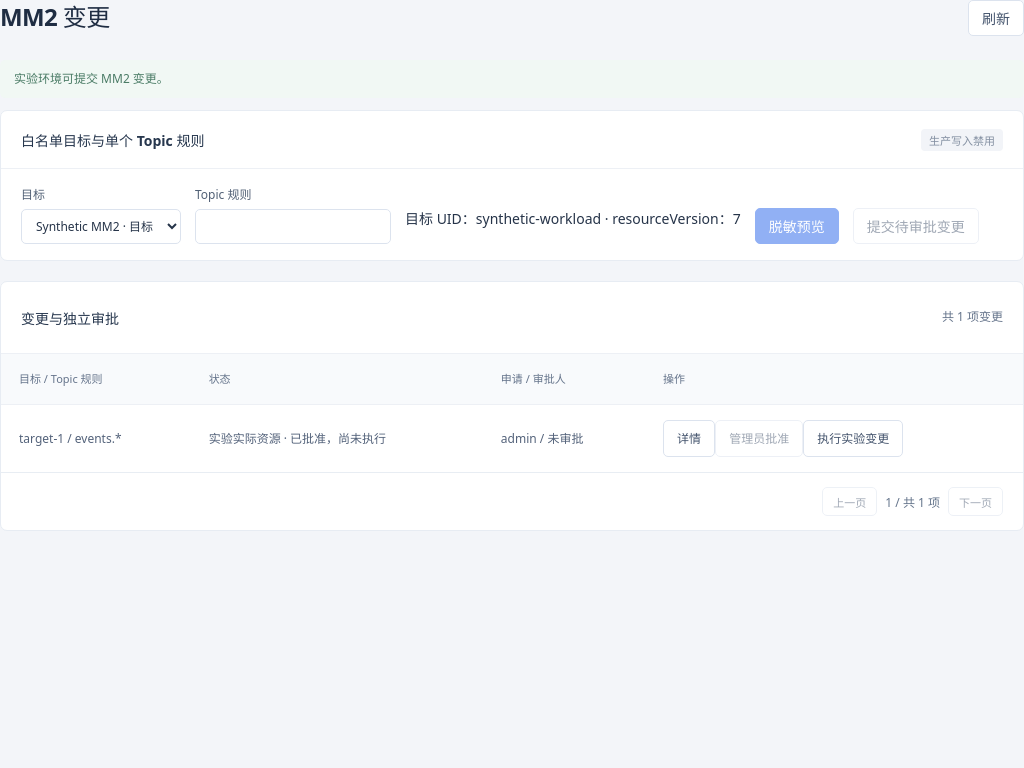
Test: opens real lab changes and trusts explicit server execution permission
Check: the form is shown, box [21,185,1003,244]
Click the button "执行实验变更" at coordinates (853, 438), box [803,420,903,457]
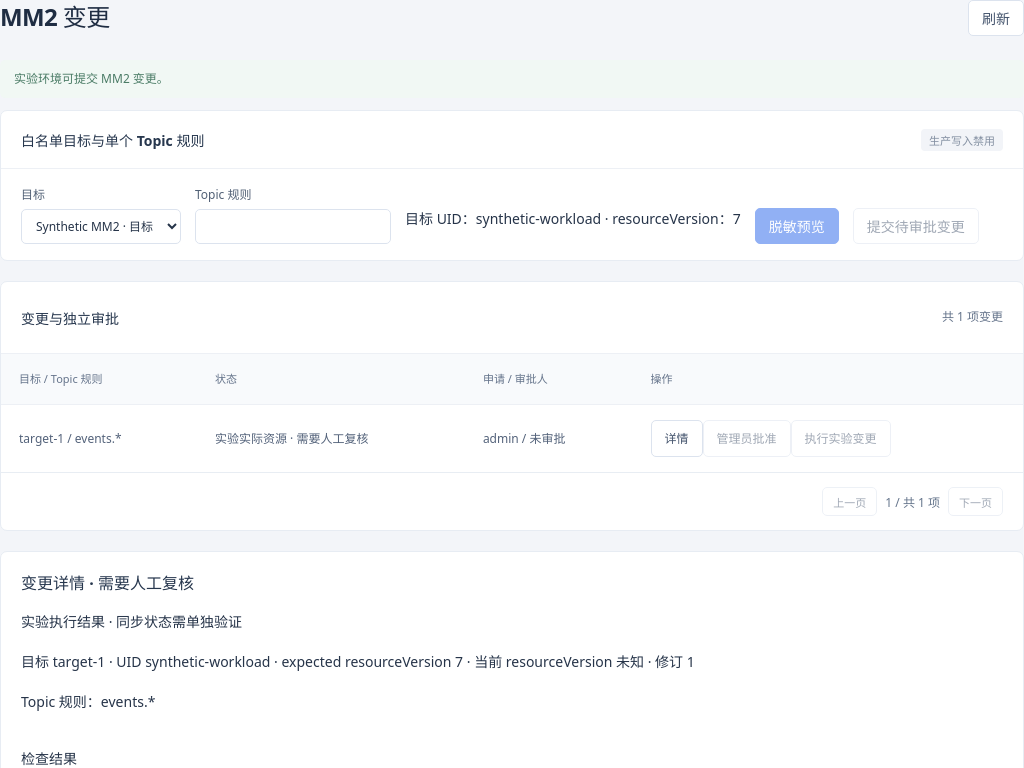
Check: the element that starts with "变更详情 · 需要人工复核" is shown, box [21,572,194,594]
Check: the button "执行实验变更" is disabled, box [791,420,891,457]
